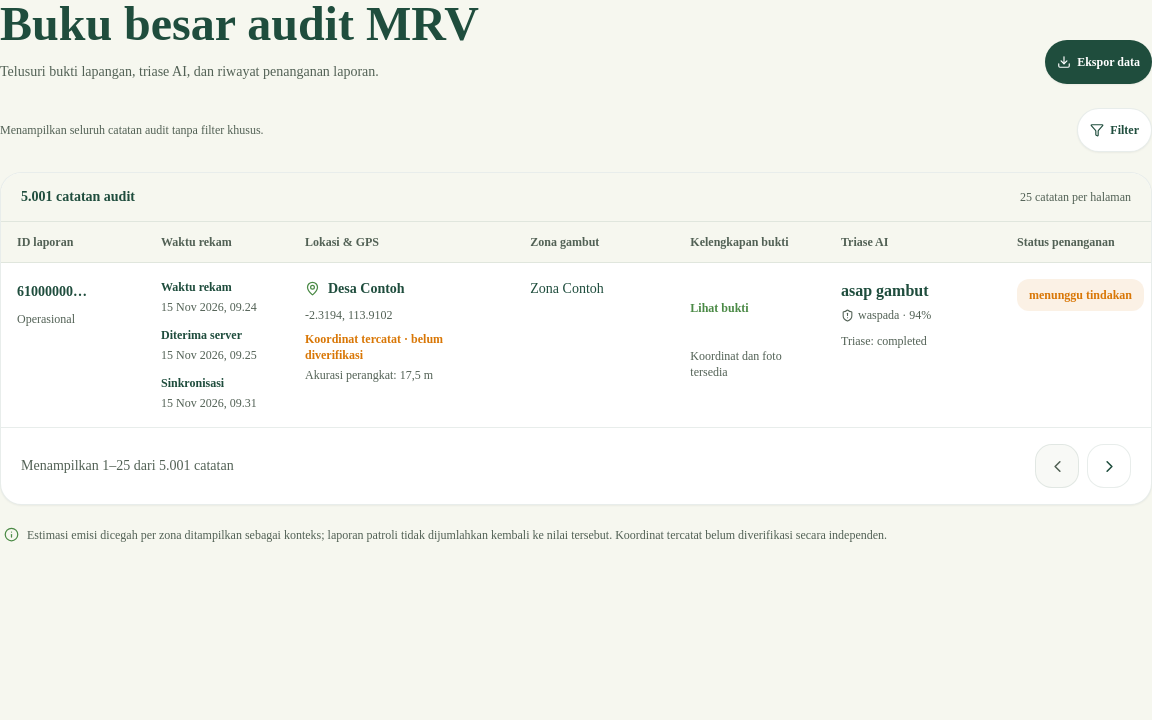
it: export dialog explains the 5,000-row cap and hides unavailable downloads
What coordinates should you click on to do the following:
click the button "Ekspor data"
I would click on:
 (1099, 62)
Its box is [1045,40,1151,84].
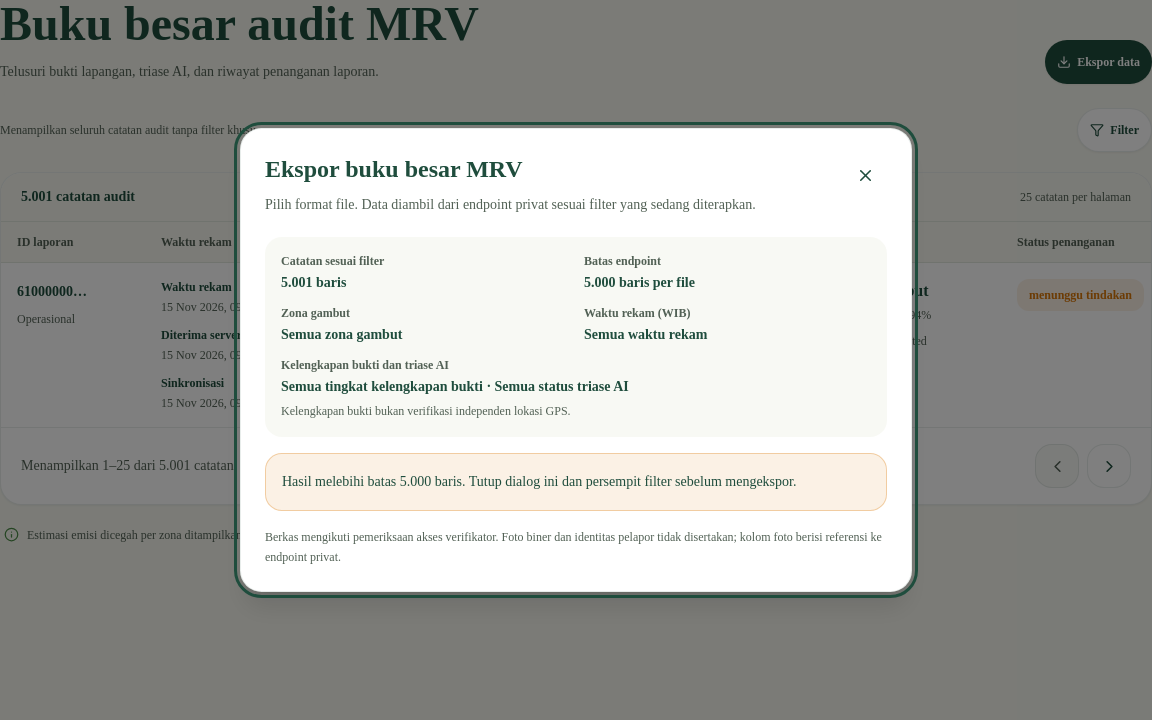
Check: the message shows "5.000 baris", box [265,453,887,511]
